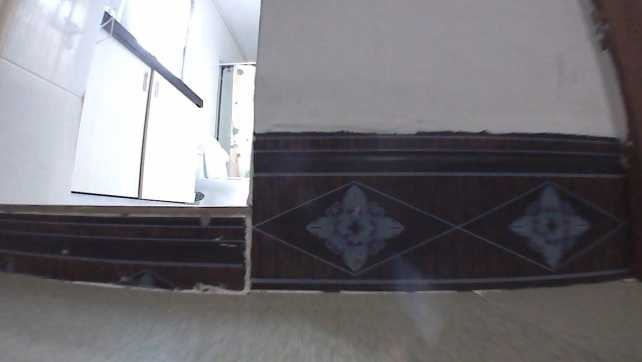toilet: (195, 138, 248, 206)
